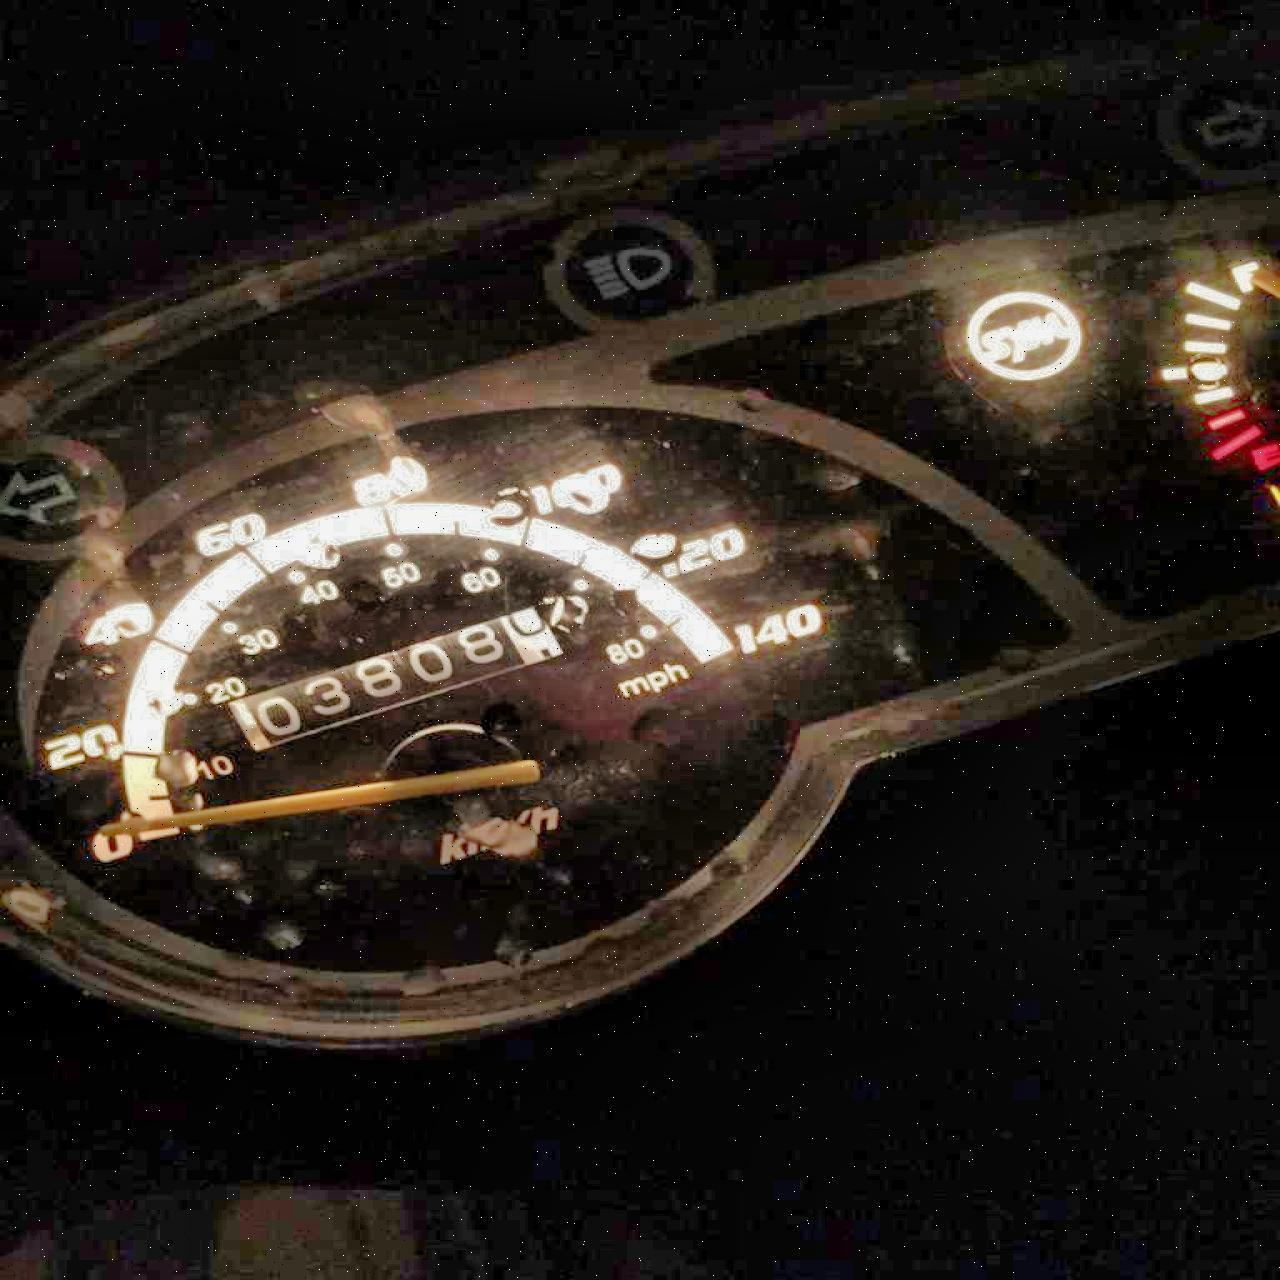0: (253, 695, 300, 735), (407, 642, 454, 682), (505, 604, 545, 636), (253, 627, 279, 647), (222, 675, 245, 696)
3: (301, 675, 350, 714), (234, 633, 260, 654)
8: (353, 656, 402, 696), (455, 622, 502, 663)
odometer: (222, 604, 564, 754)
